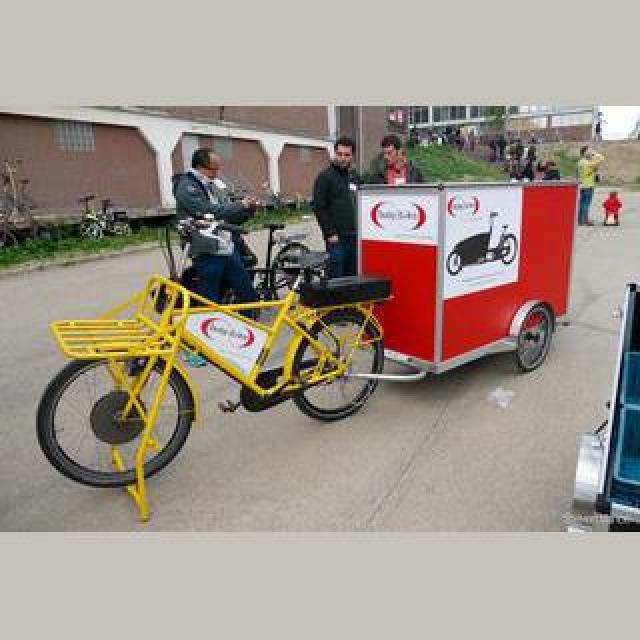MC-Bike: (176, 144, 260, 306), (310, 136, 360, 282), (378, 136, 422, 186), (574, 148, 602, 224), (602, 190, 622, 224)
Person: (38, 222, 394, 502), (78, 194, 130, 238)
